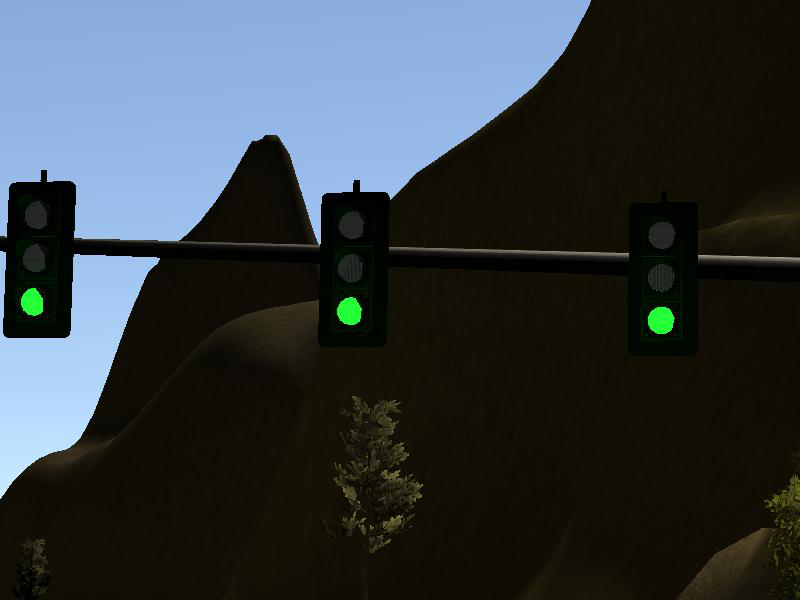green: (4, 181, 78, 341), (318, 192, 393, 346), (628, 204, 699, 356)
